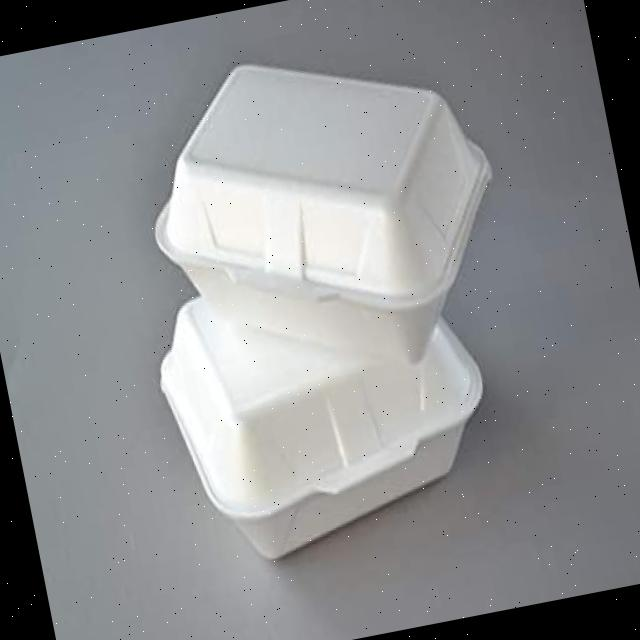styrofoam: (101, 17, 557, 576)
